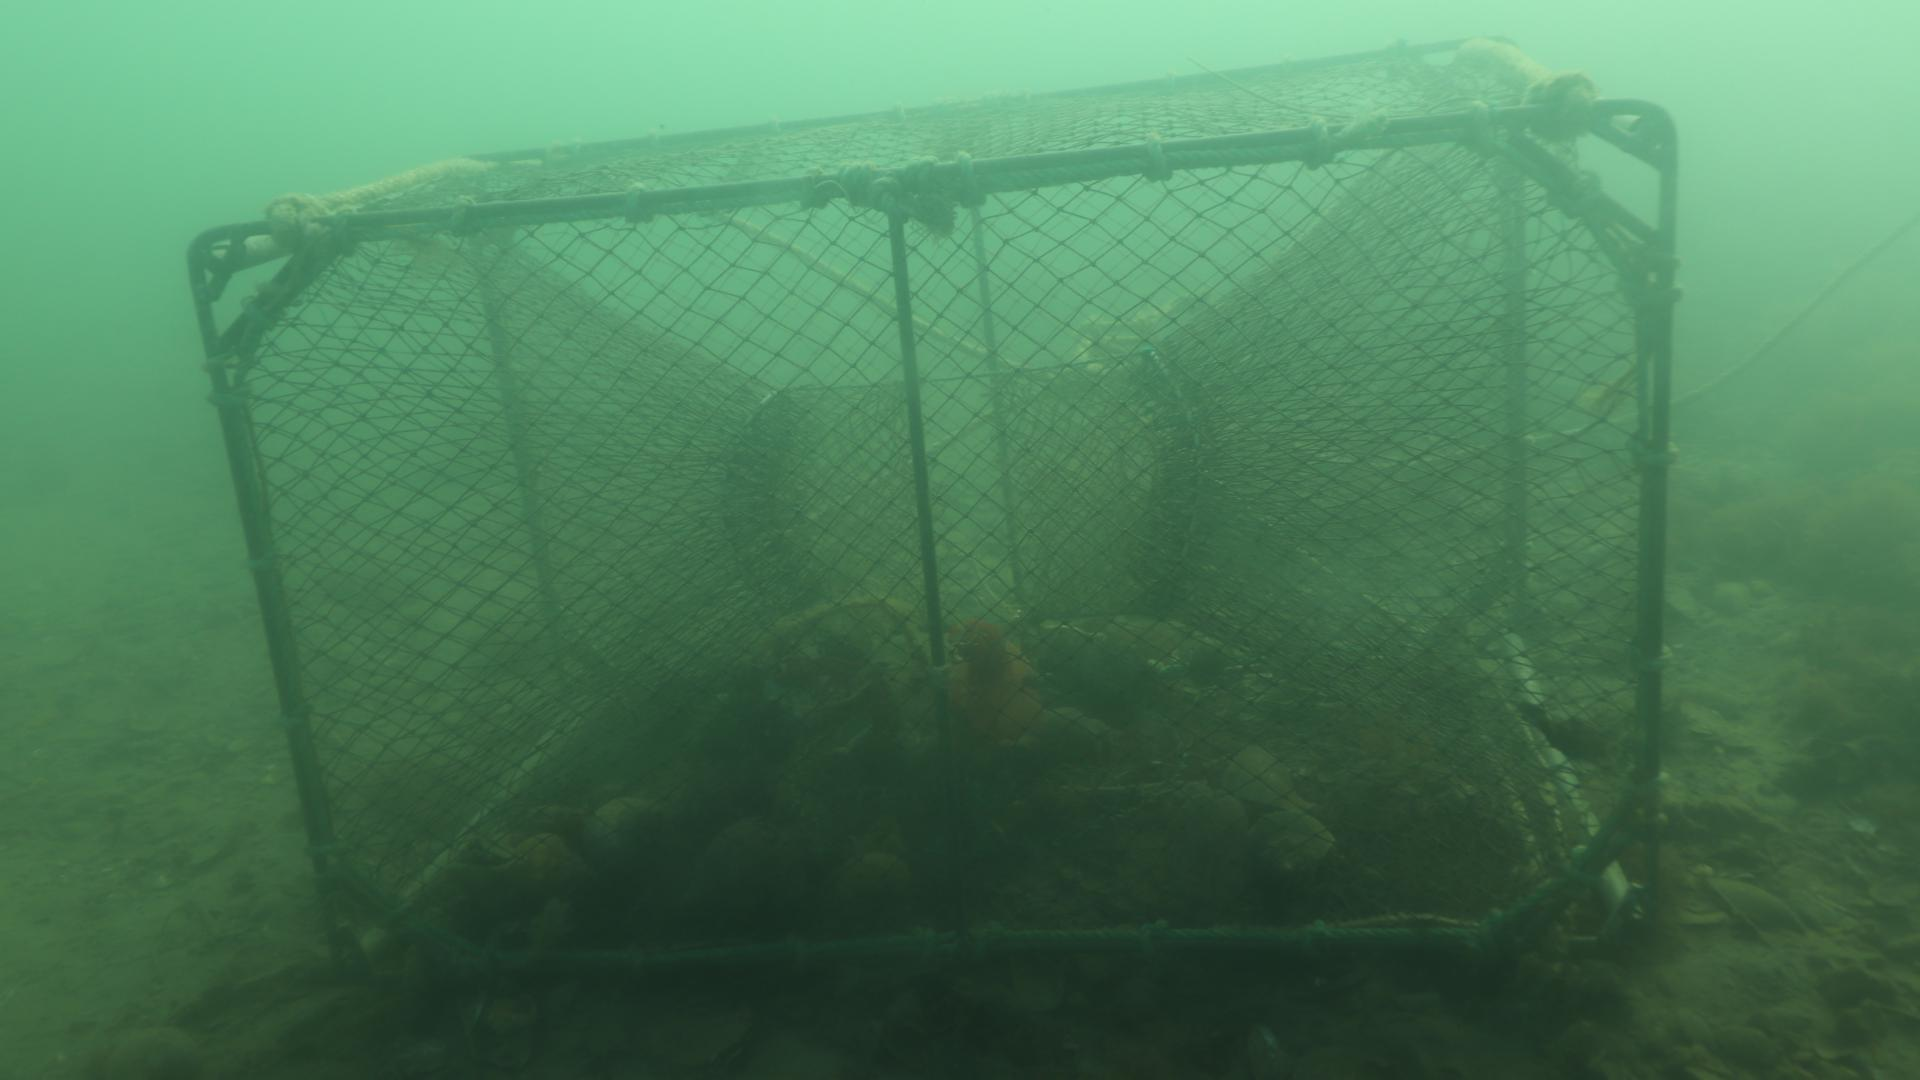rectangular fish trap: (185, 33, 1680, 981)
